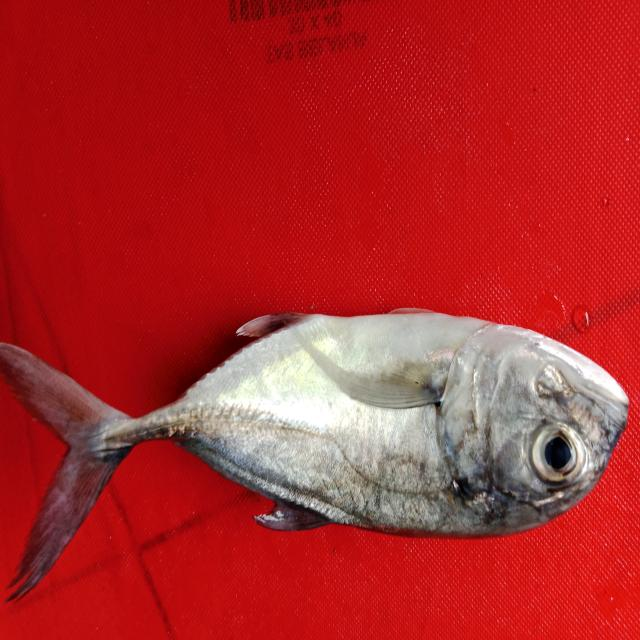ikan: (9, 300, 636, 608)
